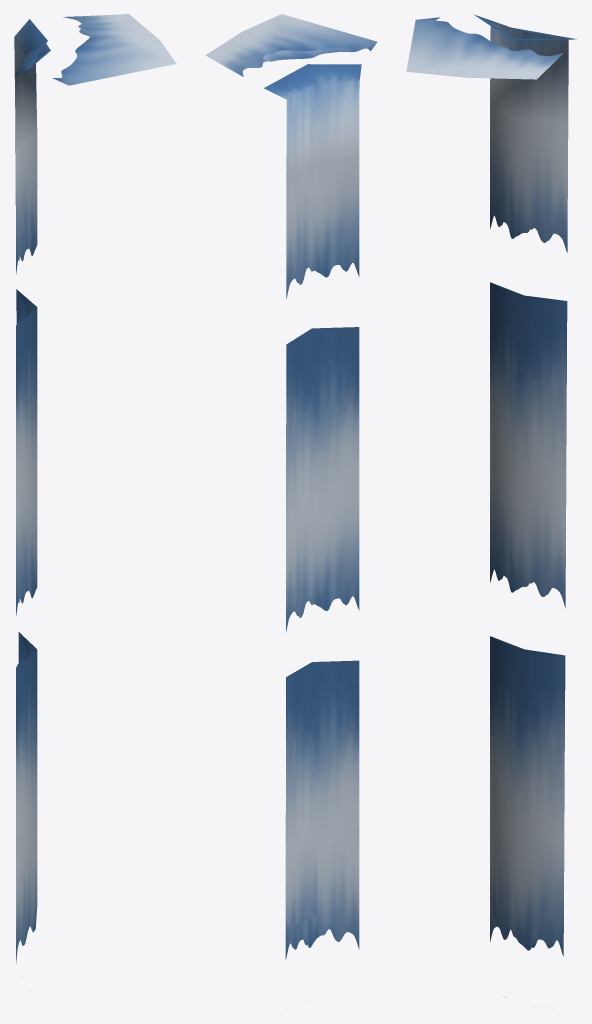
The model's file is Ile_5_Riviere.FBX.
3 renders of one model, left to right at view 1: azimuth 30°, elevation 25°; view 2: azimuth 150°, elevation 25°; view 3: azimuth 270°, elevation 25°, orthographic. The views are drawn at different scales.
Visible parts, largest first — view 1: Ile_5_Riviere; view 2: Ile_5_Riviere; view 3: Ile_5_Riviere.
Part boxes in pixels (bbox=[...]): Ile_5_Riviere: bbox=[14, 14, 176, 963]; Ile_5_Riviere: bbox=[205, 14, 377, 959]; Ile_5_Riviere: bbox=[406, 14, 576, 956].
Bounding box in the file's own units: 1215 × 8130 × 1284.
